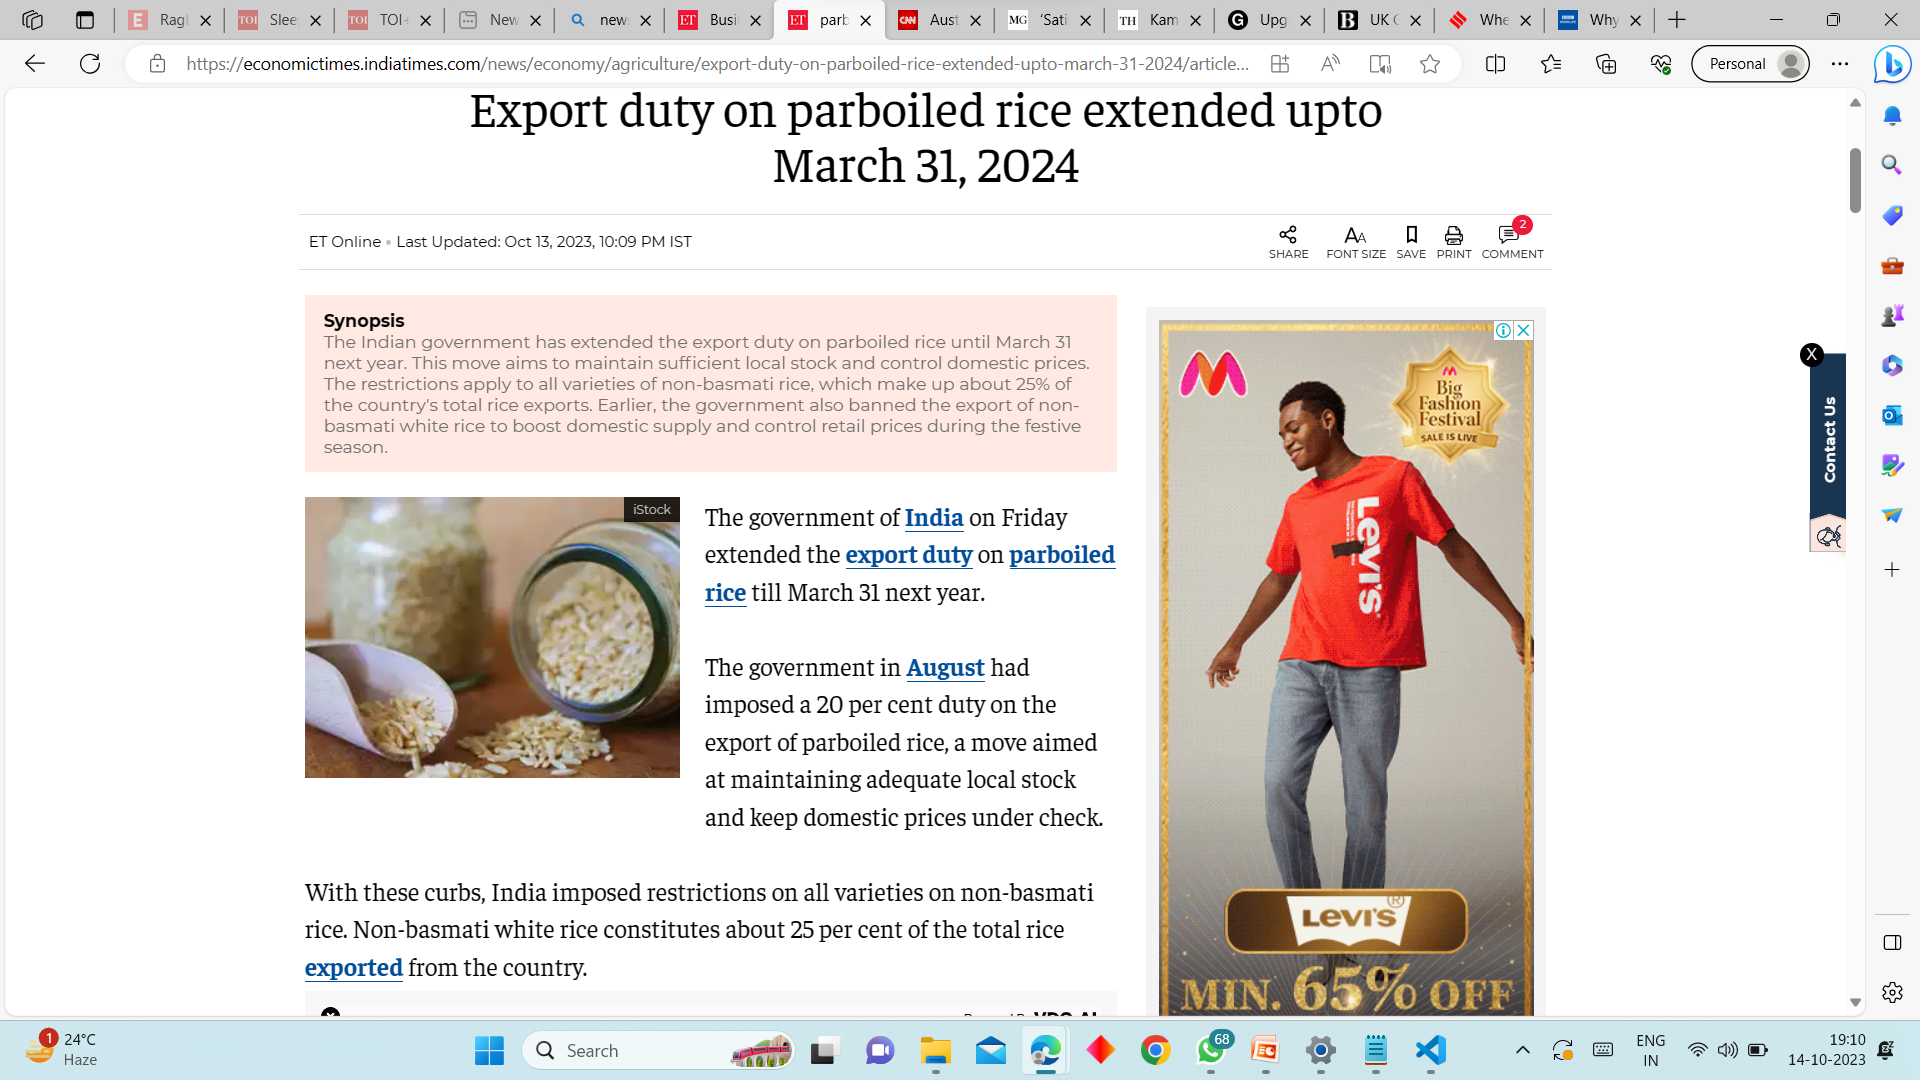Image: (1141, 309, 1540, 1013), (293, 496, 666, 778)
Paragraph: (459, 87, 1474, 208), (293, 864, 1098, 981), (319, 334, 1087, 452), (695, 640, 1135, 839), (704, 498, 1147, 624), (295, 224, 791, 261), (1476, 219, 1556, 266), (319, 306, 440, 327), (1328, 225, 1386, 261), (1261, 219, 1312, 253), (1395, 224, 1436, 261), (1443, 225, 1465, 261)
